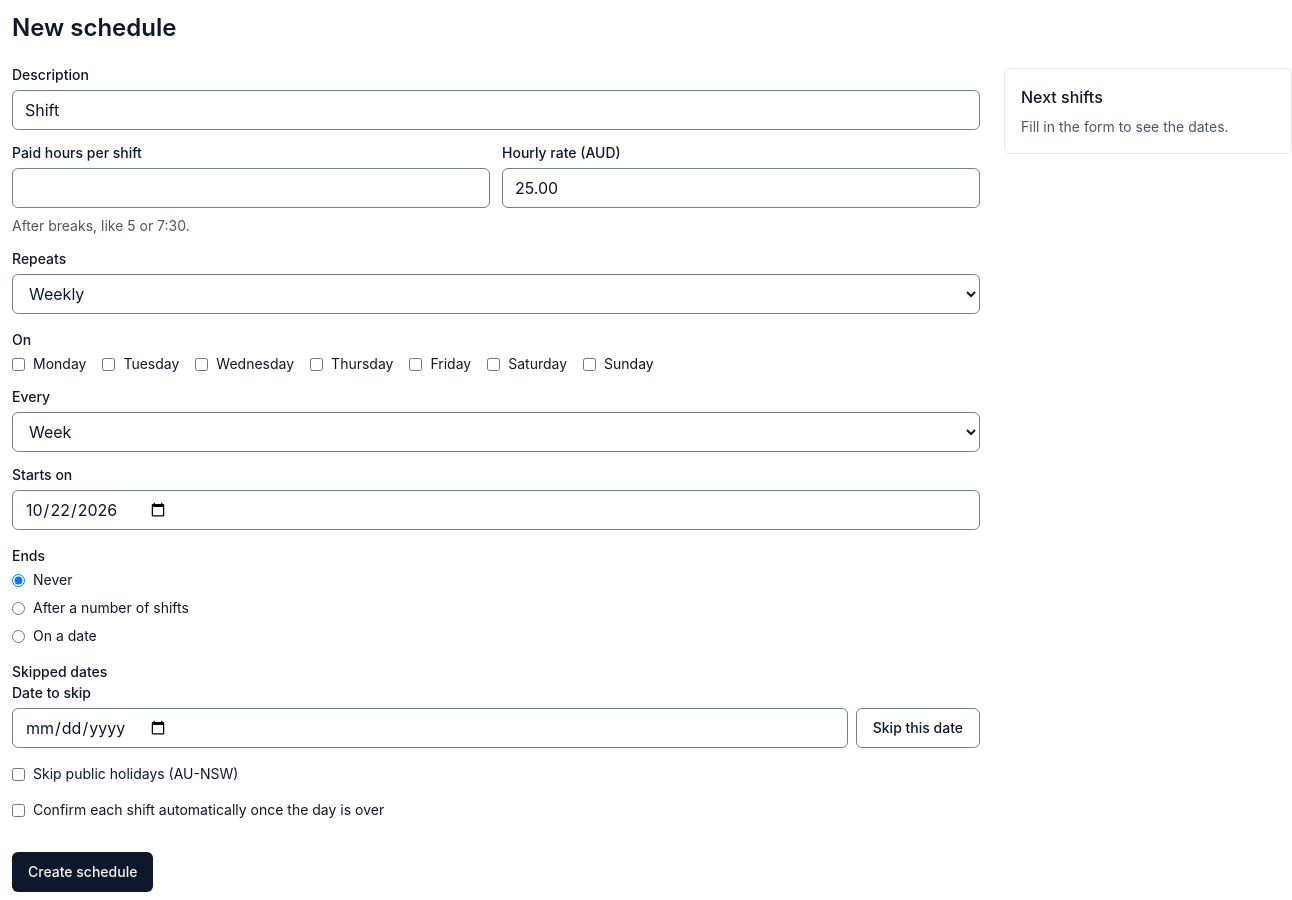
Test: NewSchedulePage › says under the count what counts toward it (#523, P6)
The width and height of the screenshot is (1292, 900).
Click the radio button labelled "After a number of shifts". click: {"x": 18, "y": 608}
box: [12,602,25,614]
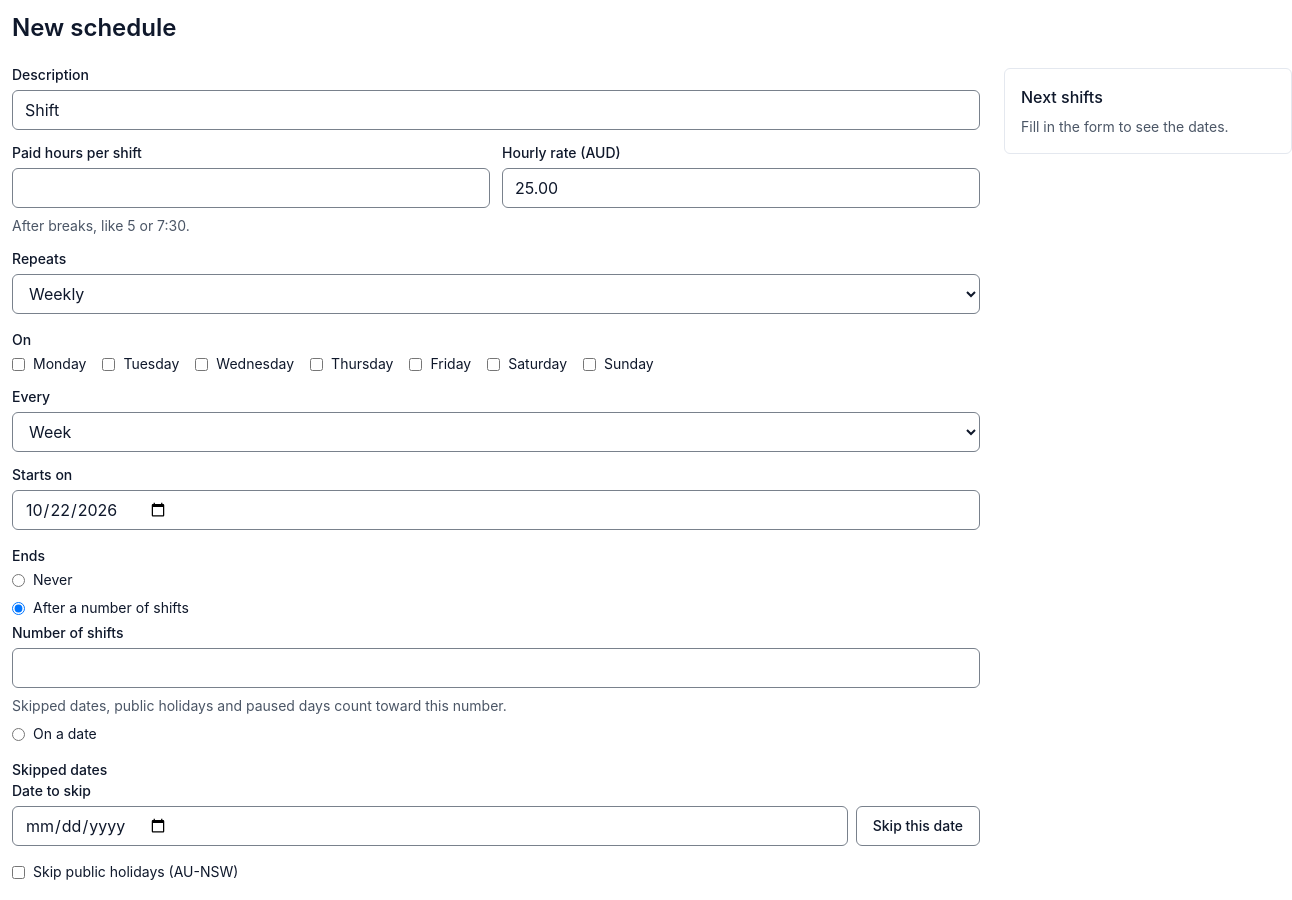
Expected: the text "Skipped dates, public holidays and paused days count toward this number." is shown, [12,697,507,714]
